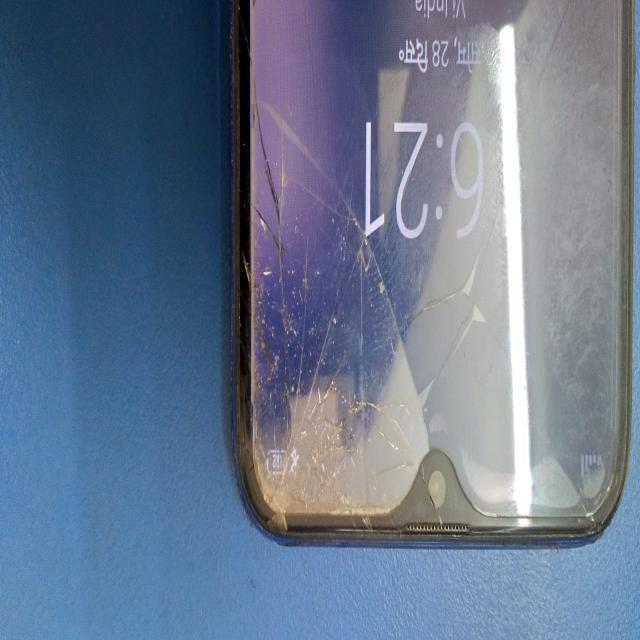screen crack: (243, 59, 419, 524)
